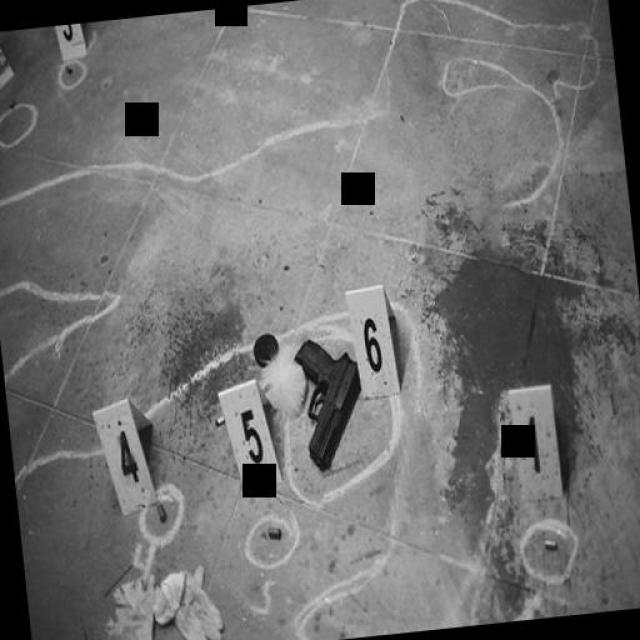gun: (287, 328, 368, 478)
